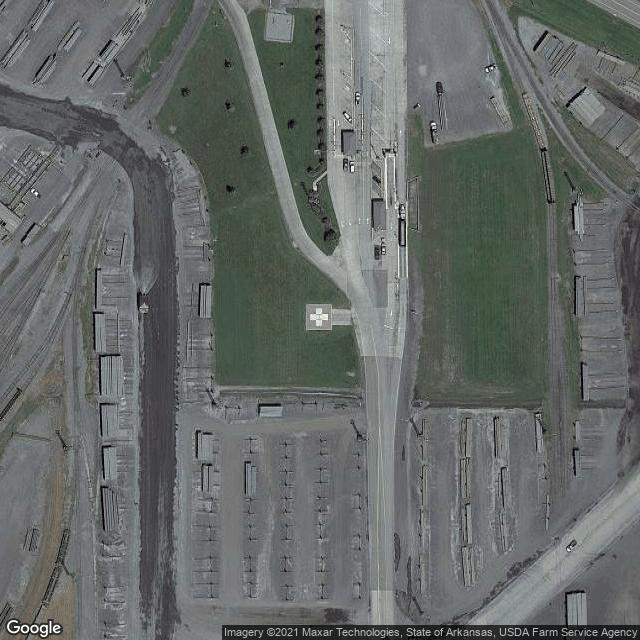Helipad: (304, 303, 333, 331)
